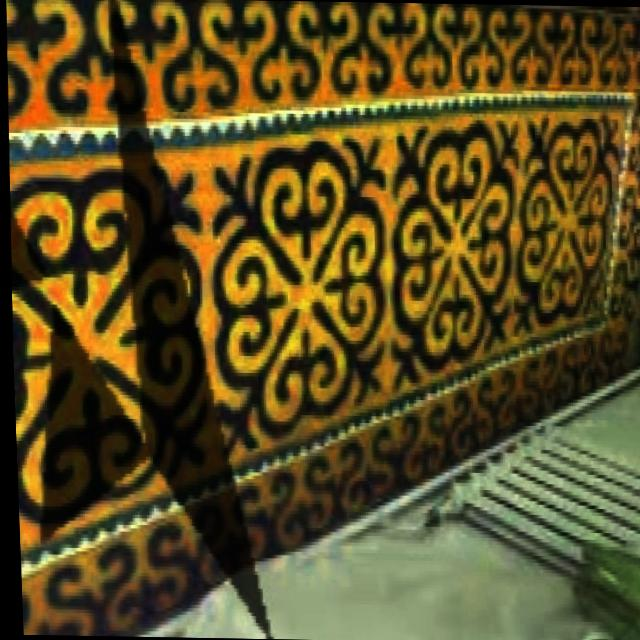Unity: (11, 164, 208, 540), (210, 120, 387, 472), (386, 107, 523, 404), (507, 105, 627, 349)
